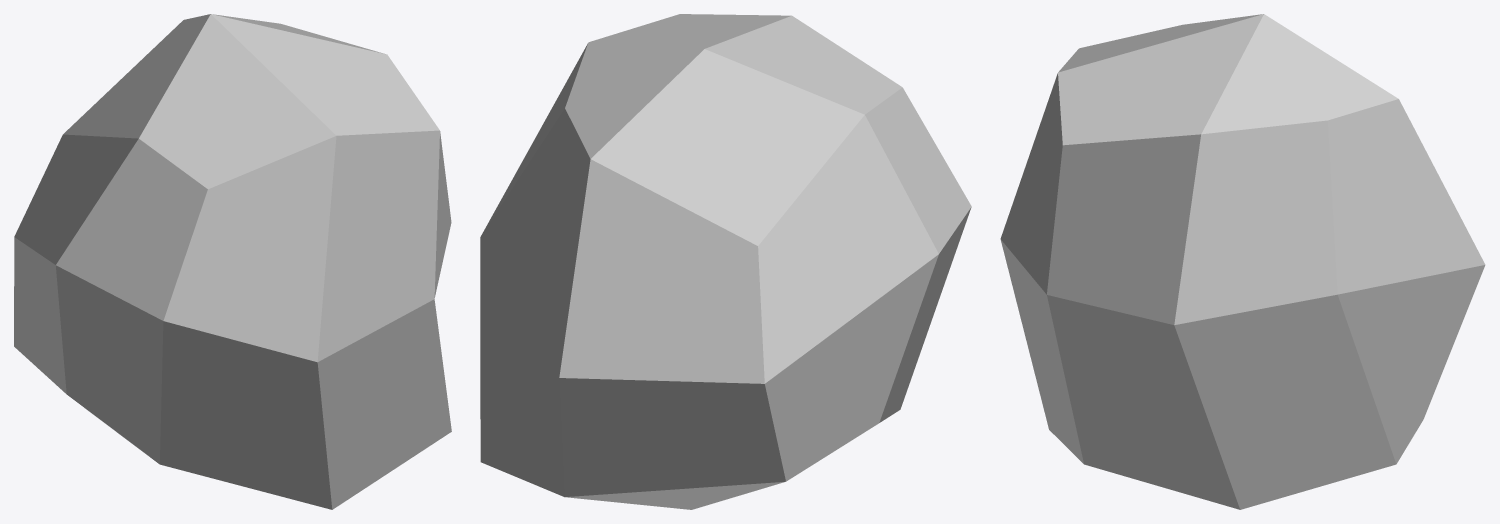
File: RocaParaLanzar.fbx
3 views of the same model, side by side, from view 1: azimuth 30°, elevation 25°; view 2: azimuth 150°, elevation 25°; view 3: azimuth 270°, elevation 25° (orthographic). The views are drawn at different scales.
Visible parts, largest first — view 1: Roca; view 2: Roca; view 3: Roca.
Boxes of the visible parts, bbox=[...] form: Roca: bbox=[14, 14, 451, 509]; Roca: bbox=[480, 14, 971, 509]; Roca: bbox=[1000, 14, 1485, 509].
Bounding box in the file's own units: 114 × 128 × 126.
